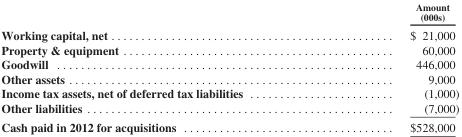table: (0, 1, 458, 133)
table column: (0, 1, 325, 133), (325, 1, 458, 133)
table column header: (0, 1, 458, 24)
table row: (0, 1, 458, 24), (0, 24, 458, 42), (0, 100, 458, 117), (0, 117, 458, 133), (0, 56, 458, 71), (0, 85, 458, 100), (0, 42, 458, 56), (0, 71, 458, 85)
